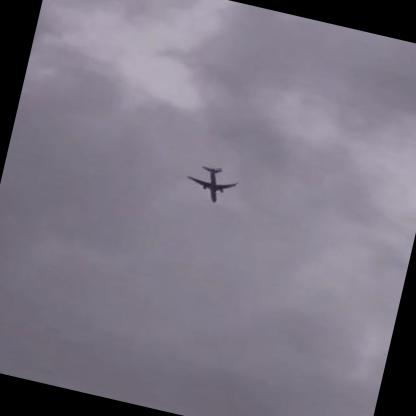plane: (183, 161, 239, 206)
